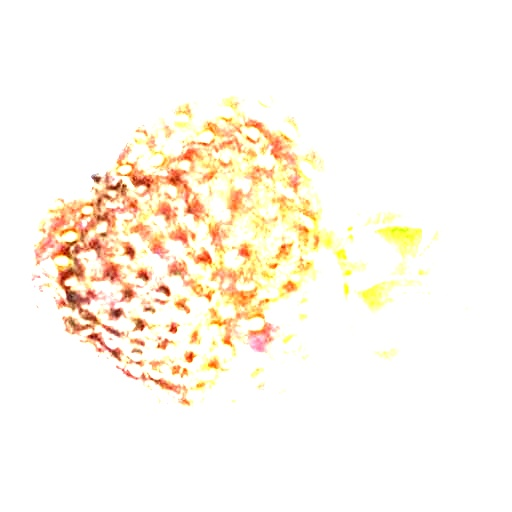Anthracnose Fruit Rot: (25, 103, 333, 420)
